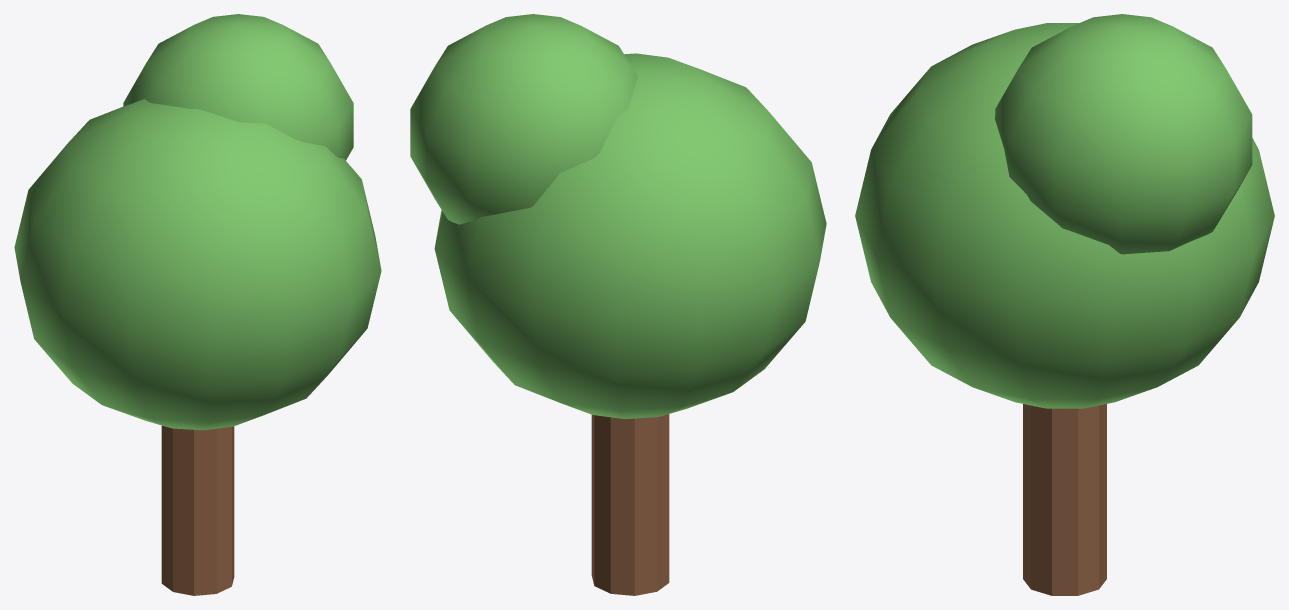
The model's file is tree_round.glb.
3 renders of one model, left to right at view 1: azimuth 30°, elevation 25°; view 2: azimuth 150°, elevation 25°; view 3: azimuth 270°, elevation 25°, orthographic. The views are drawn at different scales.
Parts seen in each view (by area): view 1: Canopy, Canopy2, Trunk; view 2: Canopy, Canopy2, Trunk; view 3: Canopy, Canopy2, Trunk.
Part boxes in pixels (x1,y1,x2,y2): Canopy: (14, 99, 381, 430); Canopy2: (123, 14, 353, 160); Trunk: (161, 425, 234, 595); Canopy: (434, 53, 826, 418); Canopy2: (410, 14, 637, 224); Trunk: (591, 414, 669, 595); Canopy: (855, 23, 1274, 408); Canopy2: (995, 14, 1252, 254); Trunk: (1023, 404, 1106, 595).
Size of the model in its own units: 2.2 by 3.4 by 2.2.
